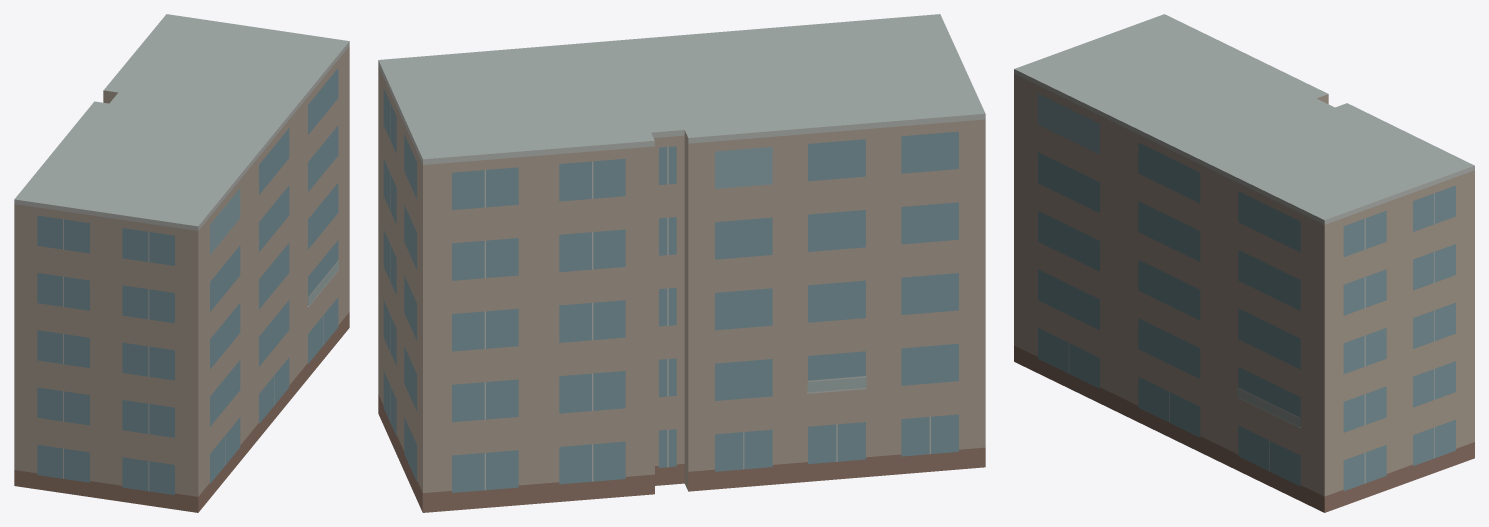
The model's file is survey-upis-32626500.glb.
3 views of the same model, side by side, from view 1: azimuth 30°, elevation 25°; view 2: azimuth 150°, elevation 25°; view 3: azimuth 270°, elevation 25° (orthographic). The views are drawn at different scales.
Parts seen in each view (by area): view 1: survey-upis-32626500.tmp; view 2: survey-upis-32626500.tmp; view 3: survey-upis-32626500.tmp.
Boxes of the visible parts, <box> form: survey-upis-32626500.tmp: <box>14,14,349,512</box>; survey-upis-32626500.tmp: <box>378,14,985,512</box>; survey-upis-32626500.tmp: <box>1014,14,1474,512</box>.
Bounding box in the file's own units: 23.05 × 15.25 × 21.77.
